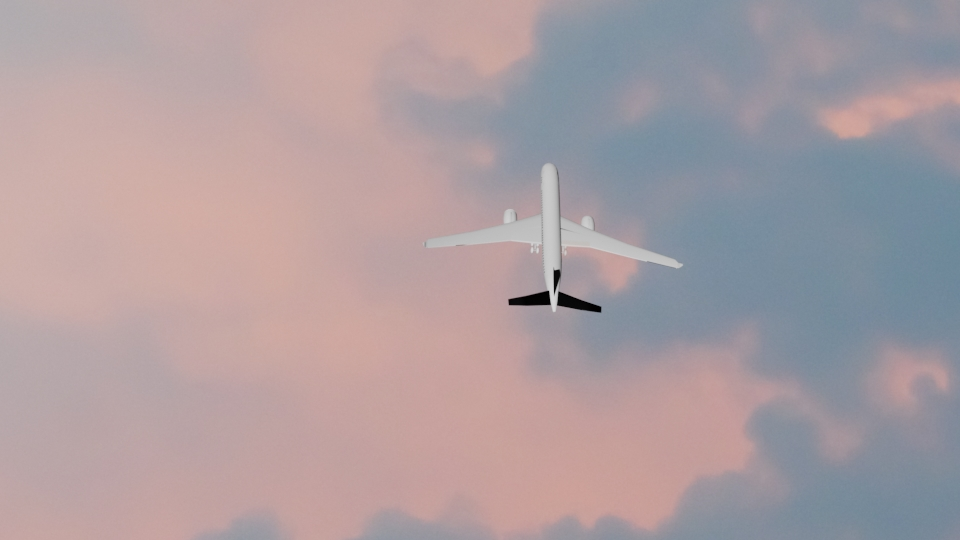plane: (421, 160, 685, 311)
